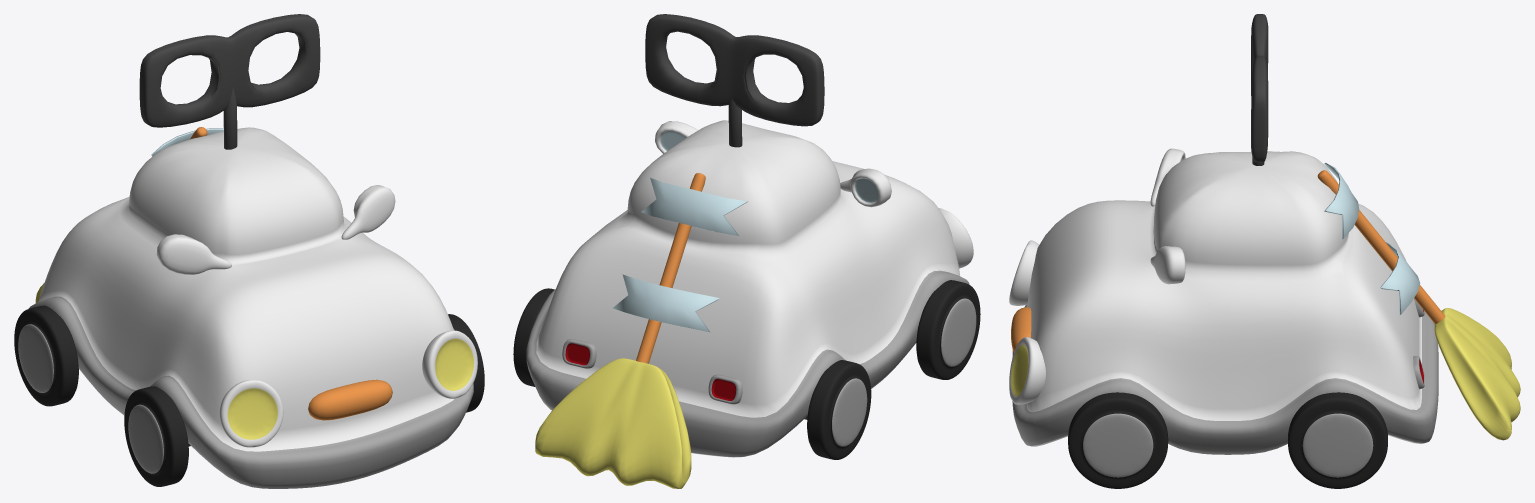
The model's file is coche.fbx.
3 views of the same model, side by side, from view 1: azimuth 30°, elevation 25°; view 2: azimuth 150°, elevation 25°; view 3: azimuth 270°, elevation 25° (orthographic).
Visible parts, largest first — view 1: Coche, manivela, Rueda, Sphere, Retrovisores, pico; view 2: Coche, escoba, Rueda, manivela, cinta.001, cinta, Retrovisores, lucestraseras, Sphere; view 3: Coche, Rueda, escoba, Sphere, manivela, Retrovisores, cinta, cinta.001, pico.
Part boxes in pixels (<box>): Coche: <box>28,127,473,488</box>; manivela: <box>139,14,320,149</box>; Rueda: <box>14,305,484,486</box>; Sphere: <box>219,330,477,447</box>; Retrovisores: <box>156,185,395,274</box>; pico: <box>308,379,392,420</box>; Coche: <box>526,120,969,457</box>; escoba: <box>535,173,705,488</box>; Rueda: <box>513,280,980,459</box>; manivela: <box>645,14,824,147</box>; cinta.001: <box>641,177,747,235</box>; cinta: <box>613,274,719,332</box>; Retrovisores: <box>655,121,891,207</box>; lucestraseras: <box>562,339,742,404</box>; Sphere: <box>939,208,973,268</box>; Coche: <box>1012,151,1438,454</box>; Rueda: <box>1068,392,1387,488</box>; escoba: <box>1317,170,1520,440</box>; Sphere: <box>1009,240,1045,404</box>; manivela: <box>1251,14,1268,165</box>; Retrovisores: <box>1150,148,1185,284</box>; cinta: <box>1380,242,1420,314</box>; cinta.001: <box>1324,163,1359,239</box>; pico: <box>1011,307,1031,352</box>.
Bounding box in the file's own units: 195 × 214 × 270.
